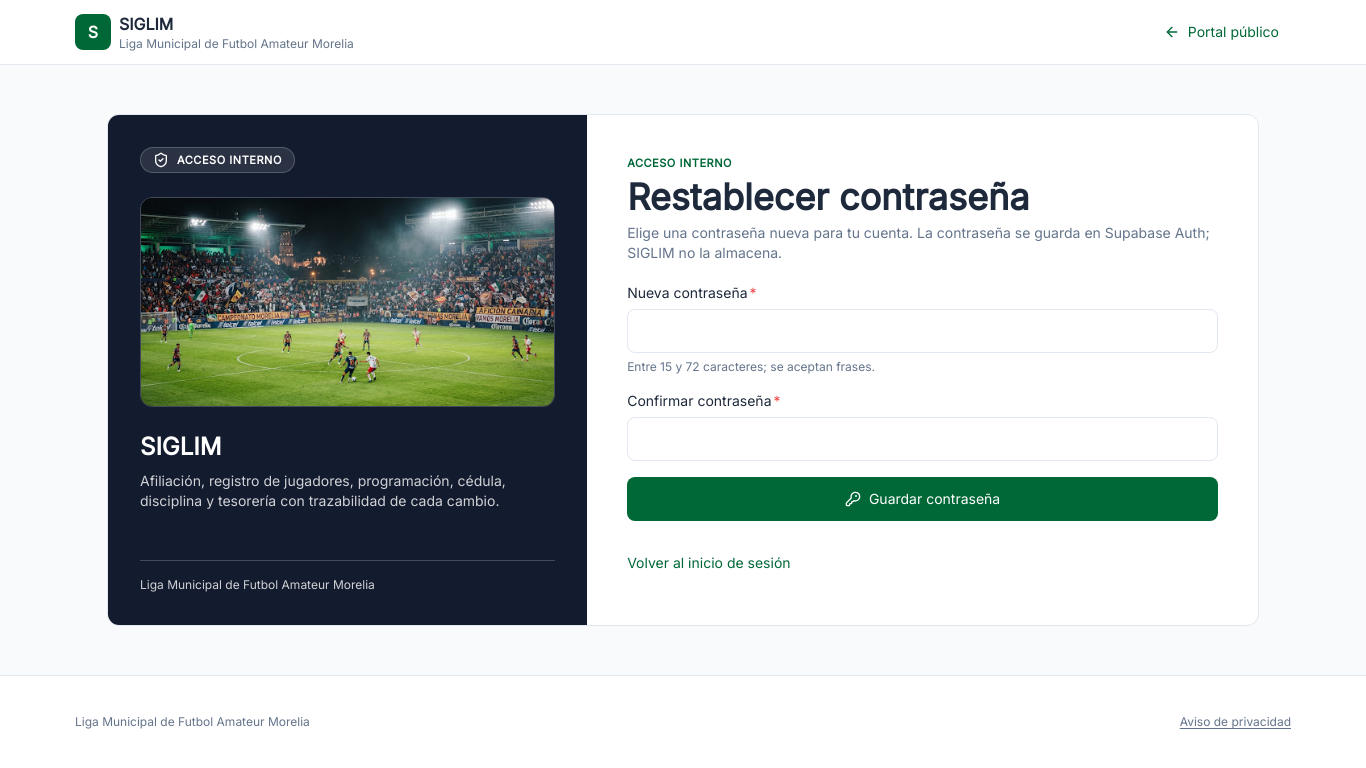
Test case: RestablecerContrasena › H-01.2: aplica la longitud mínima de la política de contraseñas
The image size is (1366, 768).
Type "corta" into the password field labelled "Nueva contraseña*" at (923, 331), box [627,309,1218,353]
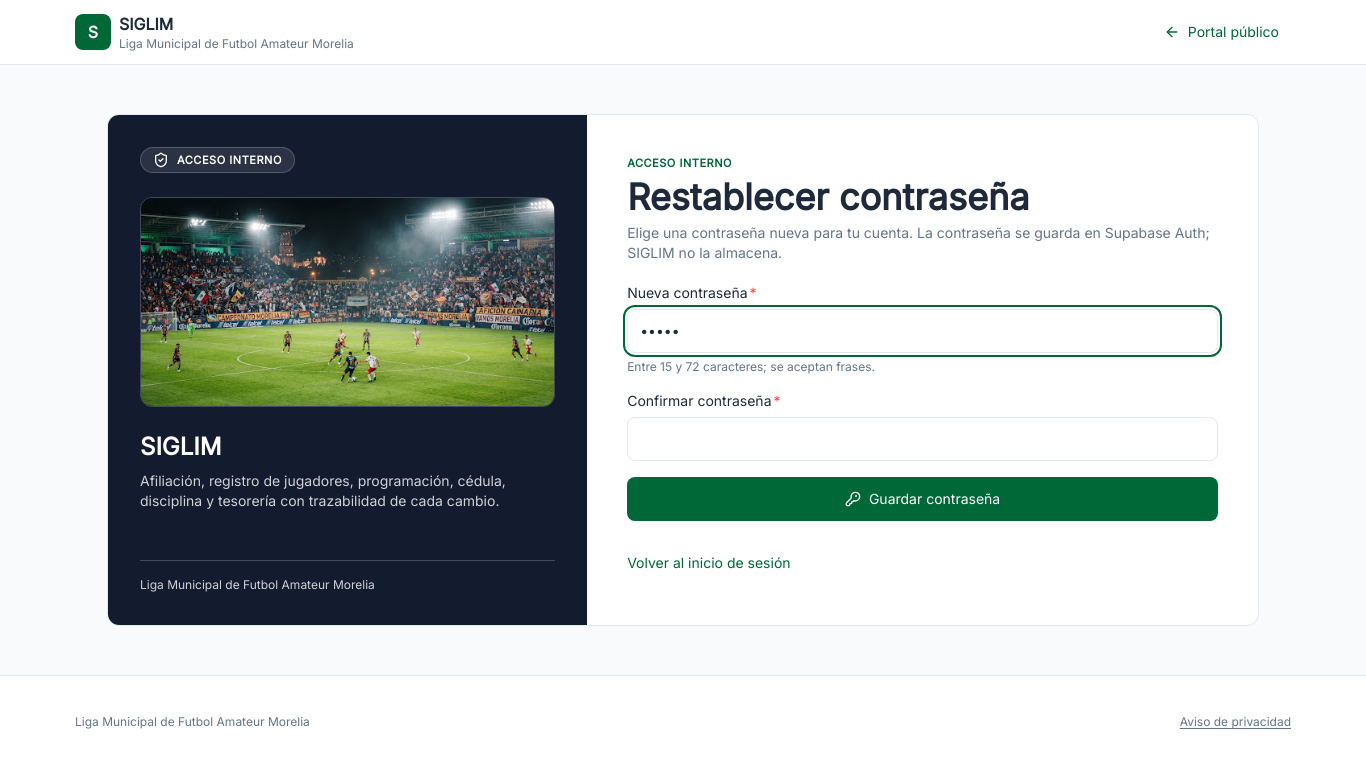
Type "corta" into the password field labelled "Confirmar contraseña*" at (923, 439), box [627,417,1218,461]
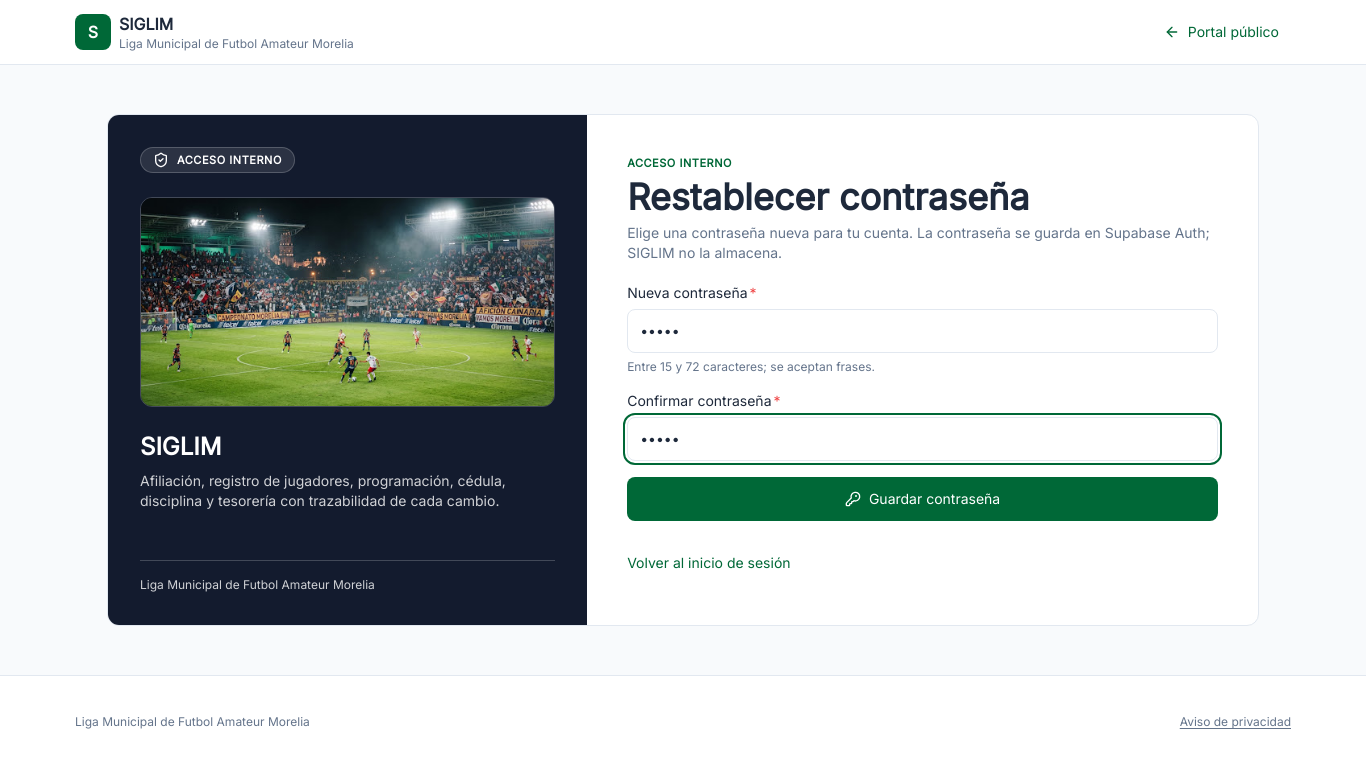
Click the button "Guardar contraseña" at (923, 499), box [627,477,1218,521]
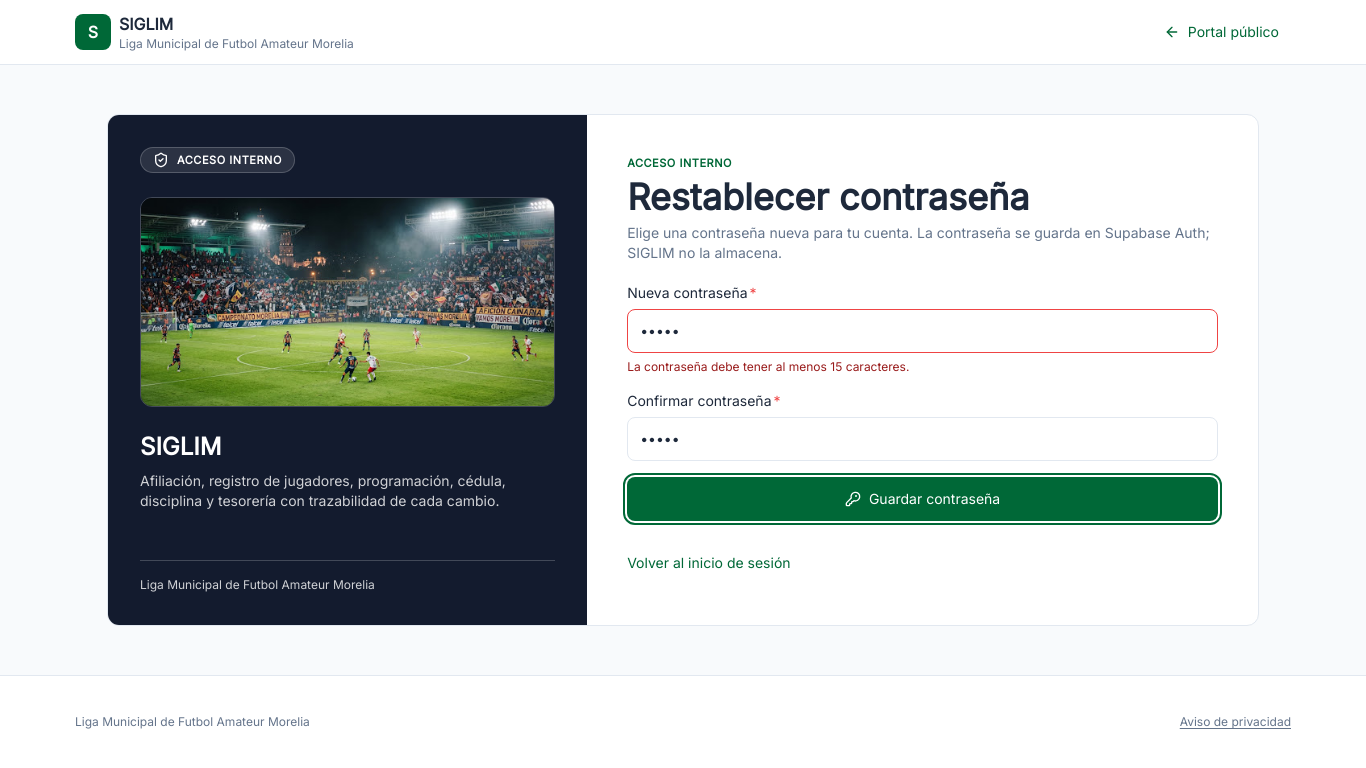
Expected: the text "La contraseña debe tener al menos 15 caracteres." is shown, [627,359,909,374]
